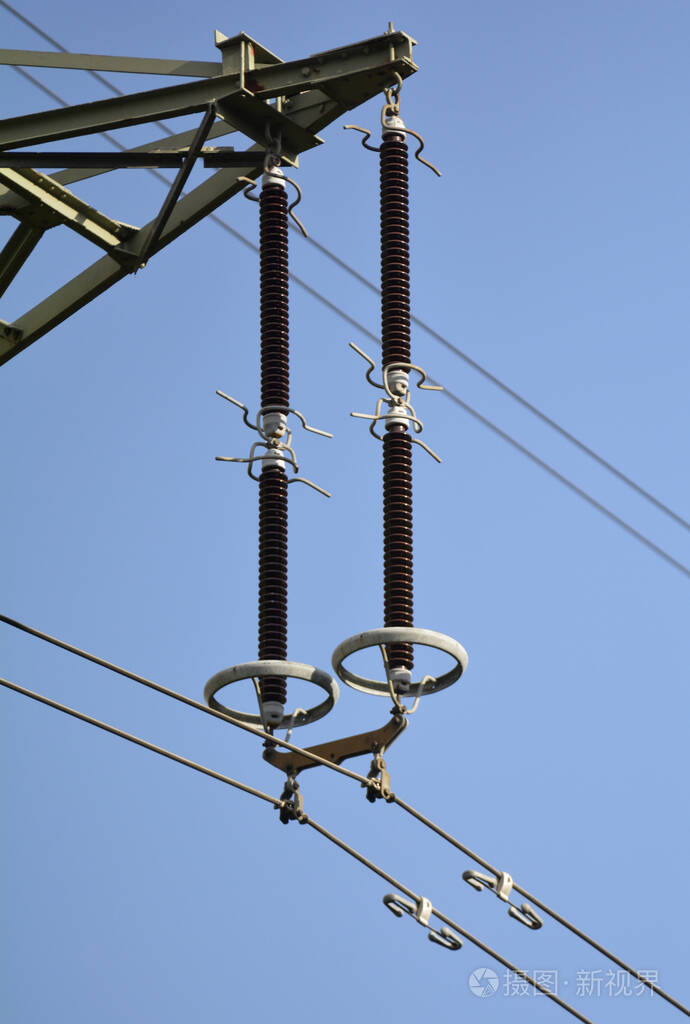insulator: (253, 185, 301, 411), (372, 141, 414, 373), (378, 430, 416, 673), (254, 468, 292, 707)
